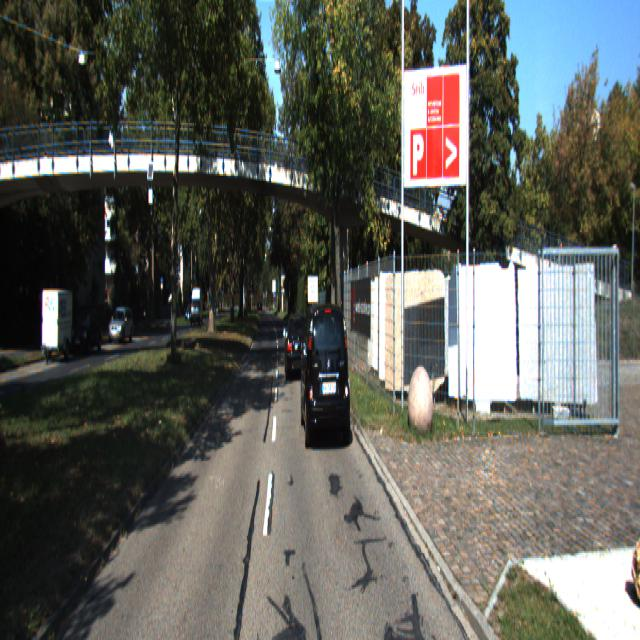Car: (298, 298, 352, 448), (284, 309, 310, 382), (107, 307, 133, 345)
